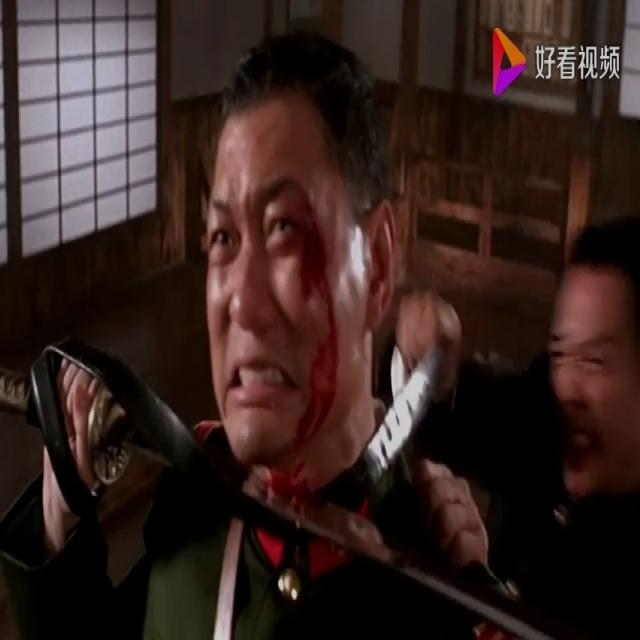fight: (0, 1, 548, 639)
